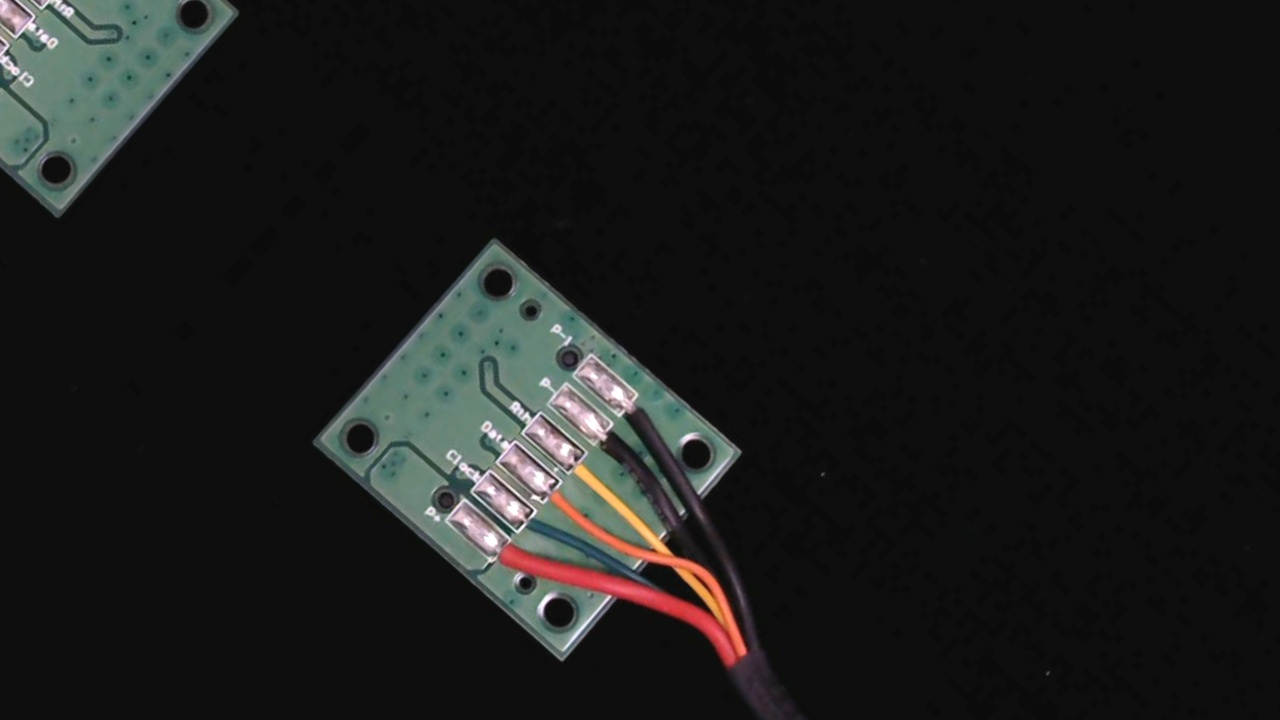Black: (584, 415, 656, 485)
Black1: (609, 385, 678, 450)
Green: (504, 498, 570, 562)
Orange: (531, 472, 604, 541)
Red: (478, 527, 545, 592)
Yellow: (555, 442, 630, 514)
